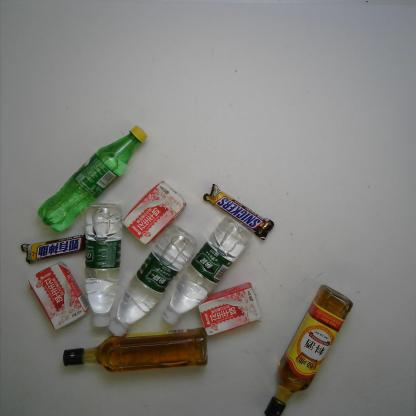Chocolate: (204, 184, 274, 241), (21, 230, 97, 263)
Drink: (38, 125, 147, 233), (108, 226, 197, 336), (162, 216, 251, 325), (84, 204, 124, 328)
Milk: (28, 261, 90, 331), (123, 181, 187, 244), (198, 283, 262, 336)
Seasoner: (263, 283, 355, 416), (63, 327, 208, 373)
